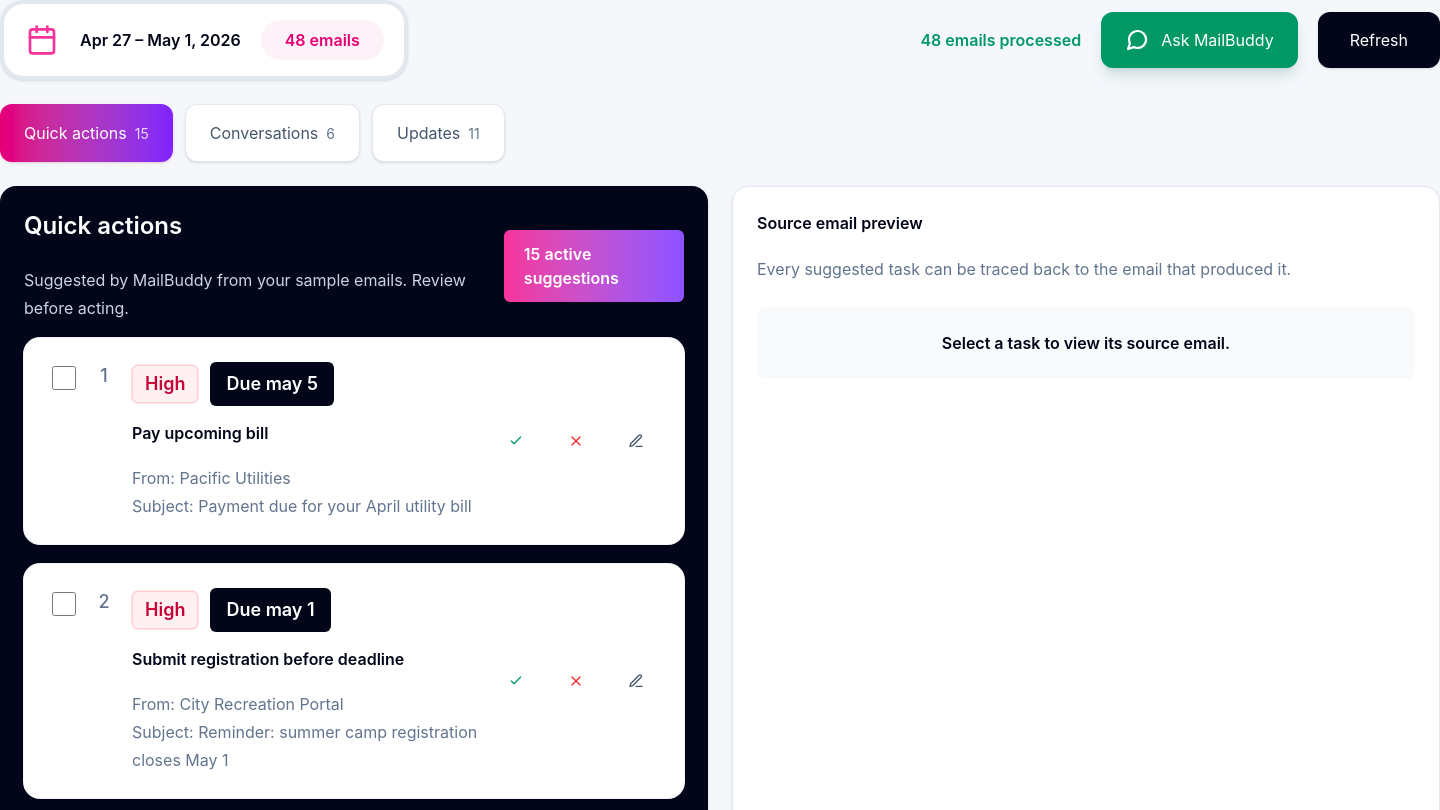
Test: Dashboard integration › shows only the final assistant answer after finalization completes
Click the button "Ask MailBuddy": (1199, 40) [1101,12,1298,68]
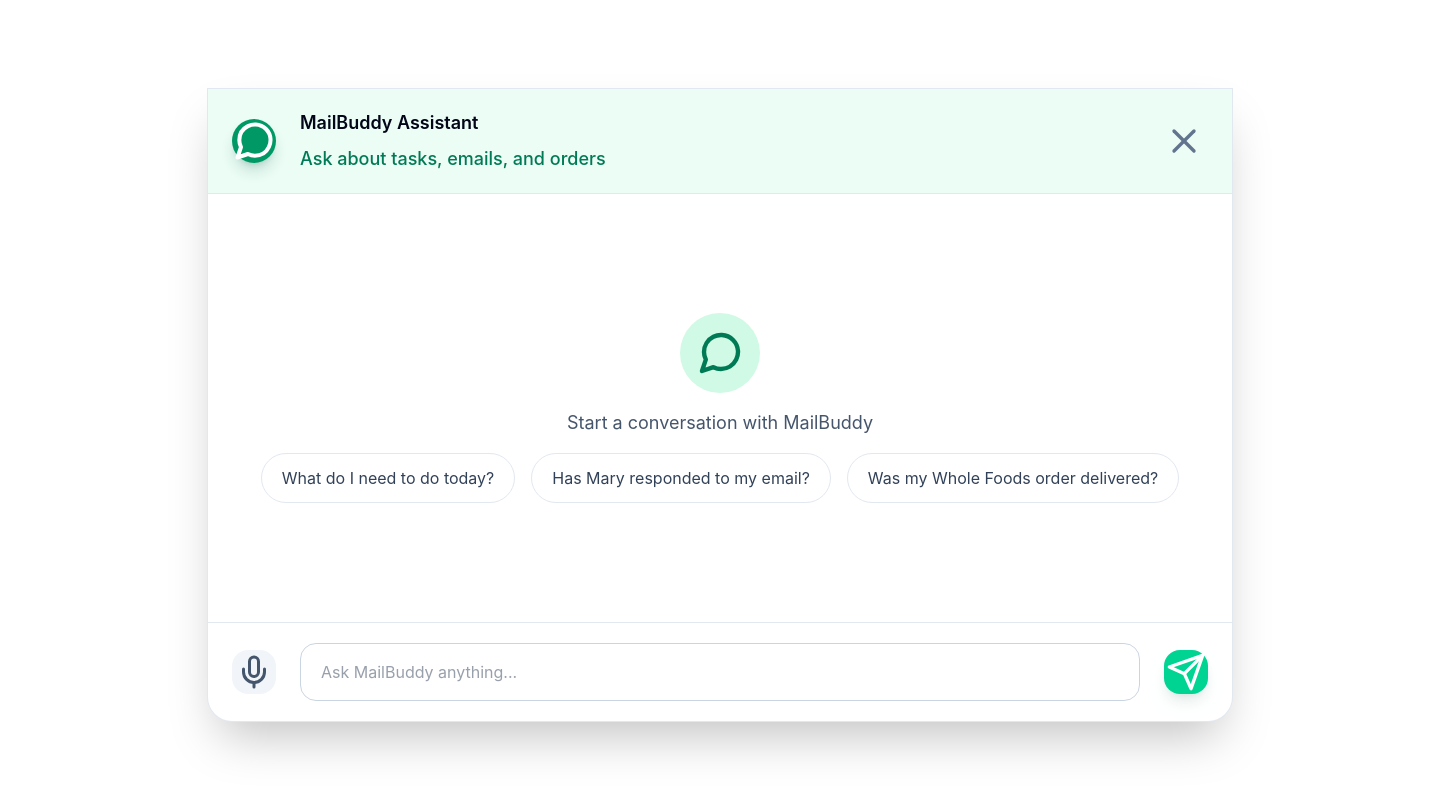
In the field with placeholder "Ask MailBuddy anything...": (720, 672) [300,643,1140,701], type "How many medium priority tasks are there?"
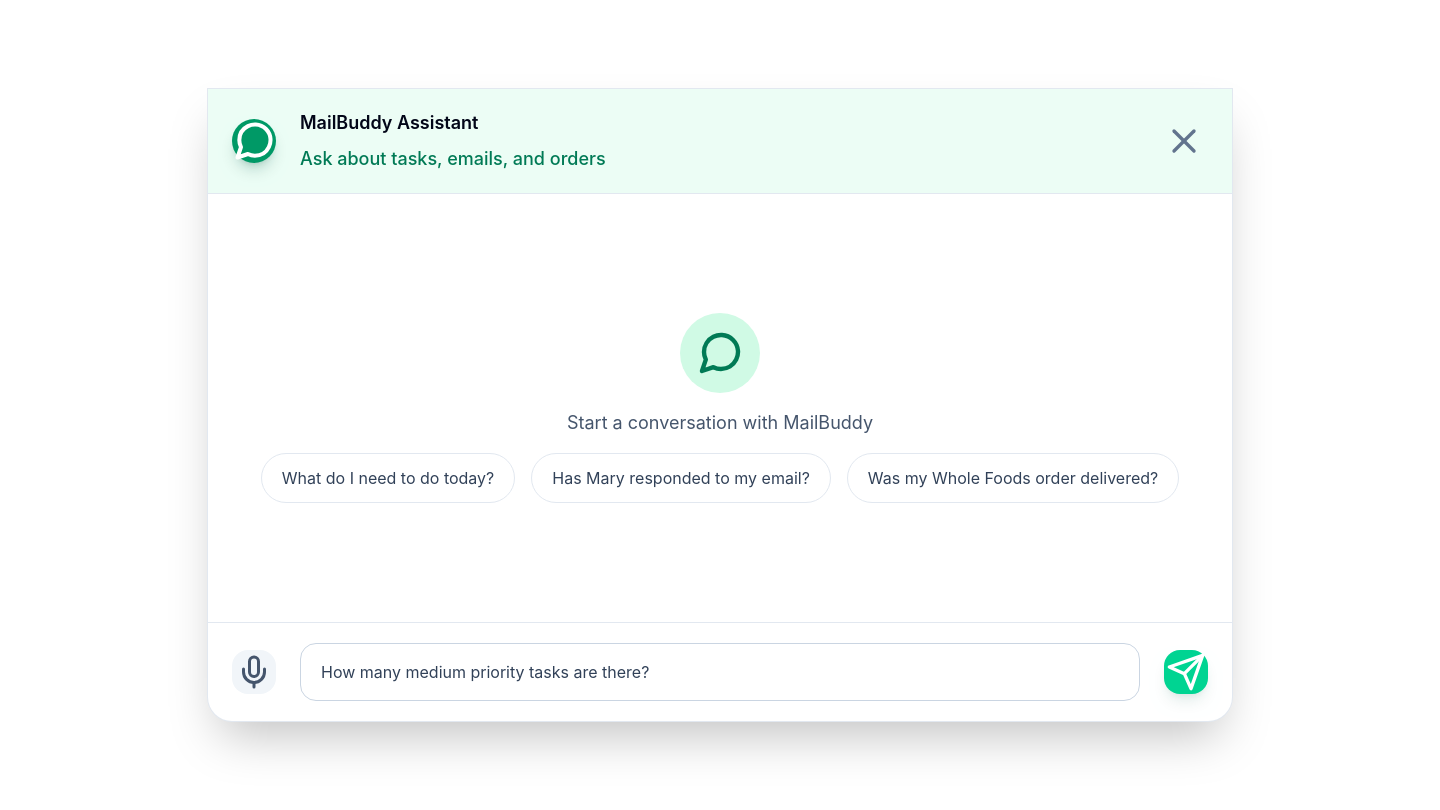
Click the button named "Send message": (1186, 672) [1164,650,1208,694]
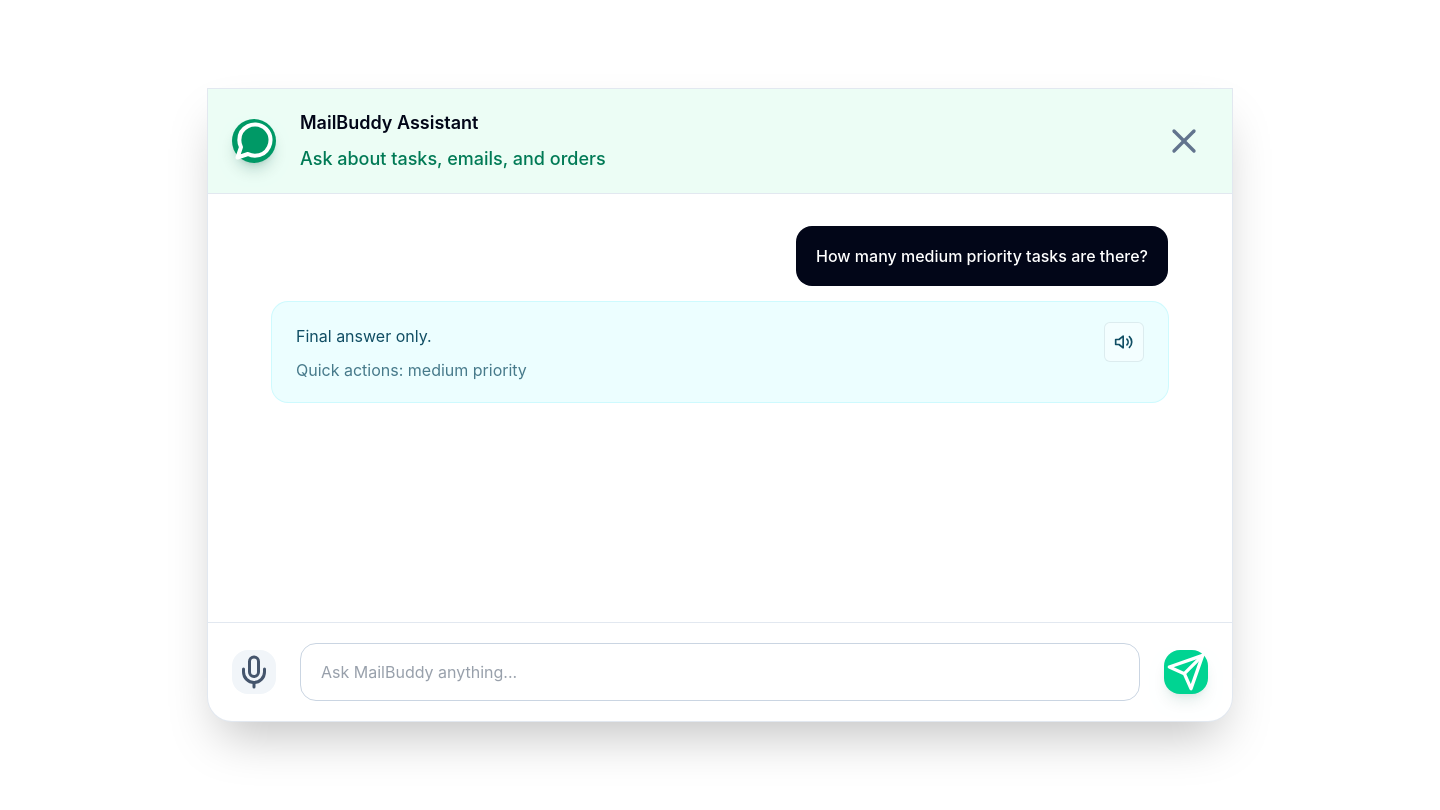
Expected: the text "Final answer only." is shown, [296,326,432,346]
